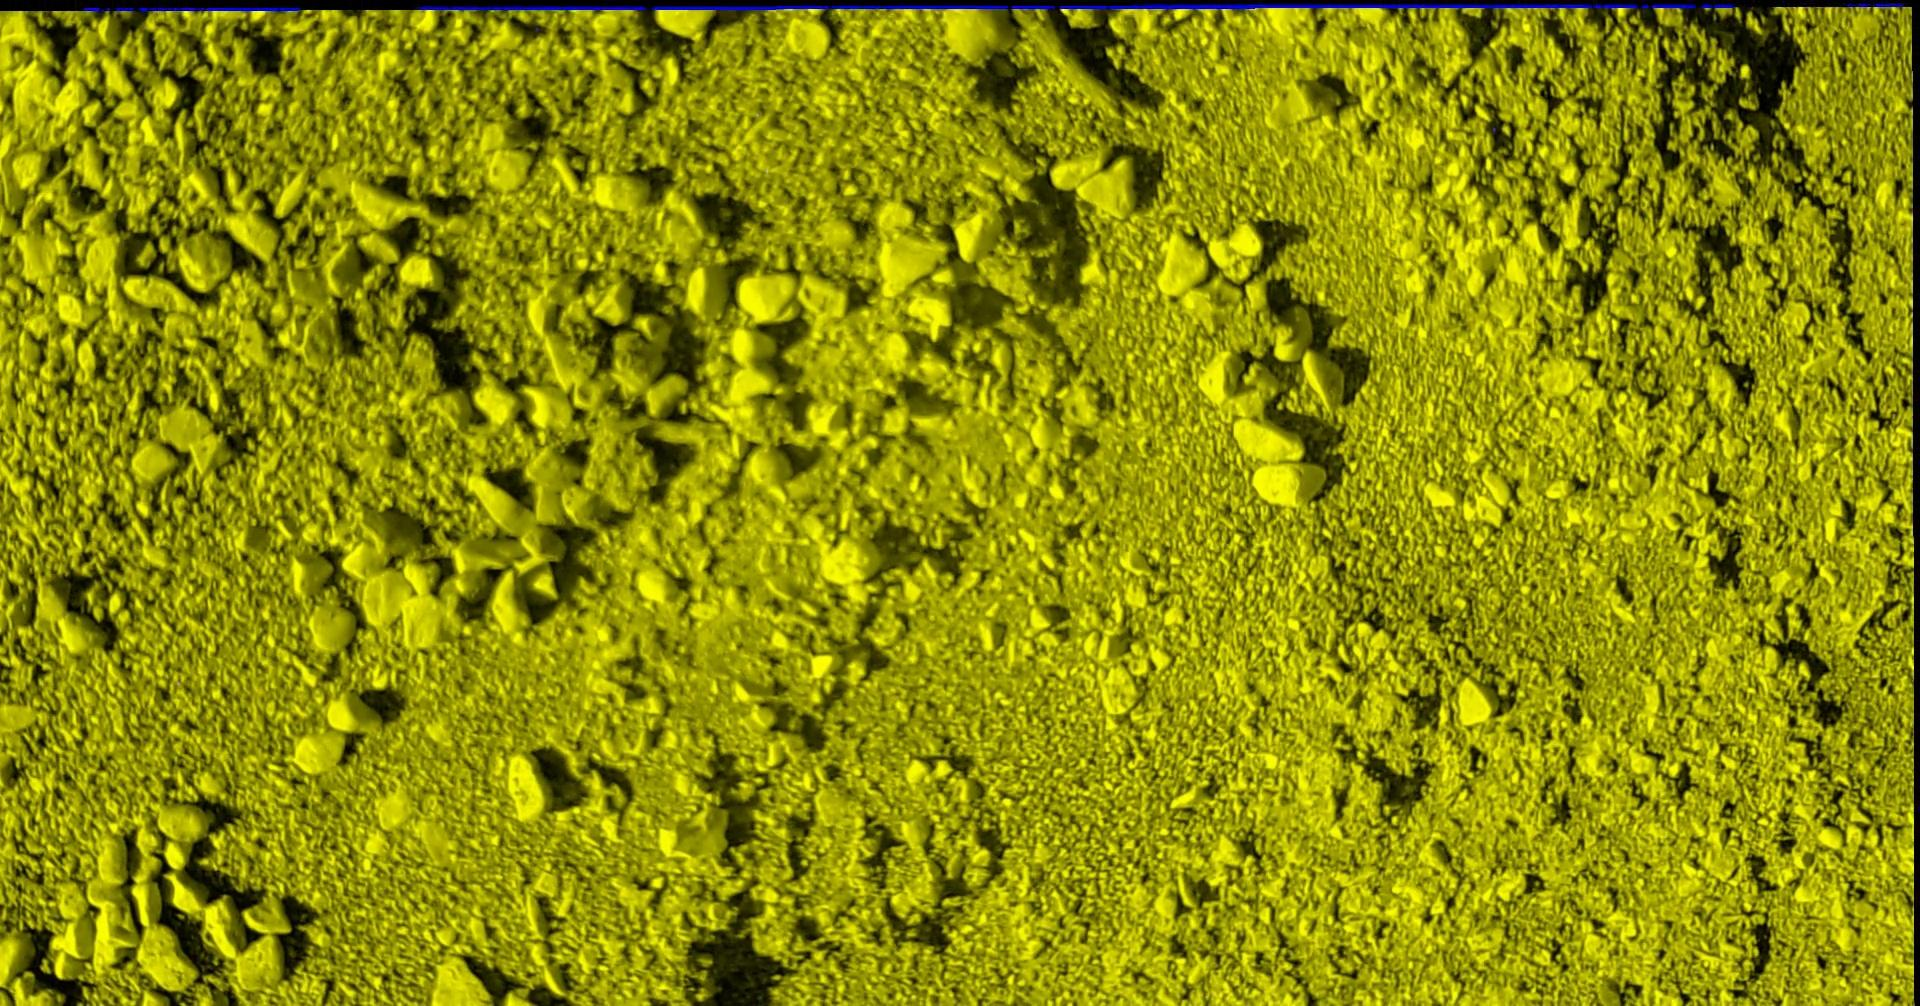ant: (83, 6, 300, 11), (1846, 3, 1903, 8), (1700, 3, 1735, 8)
